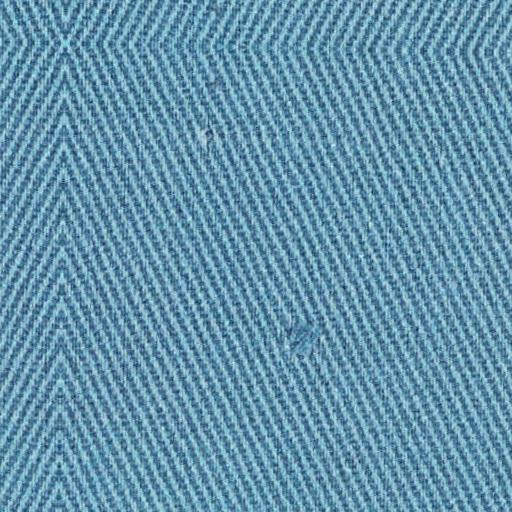knot: (271, 315, 335, 364)
